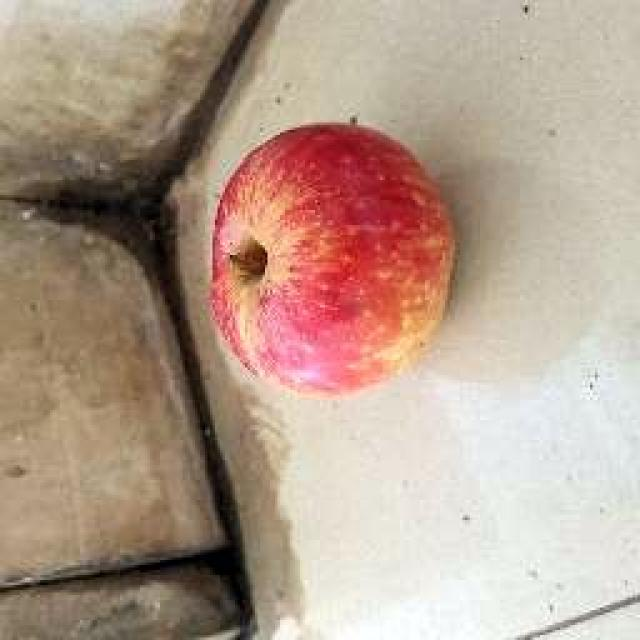Good_Apple: (208, 122, 458, 400)
